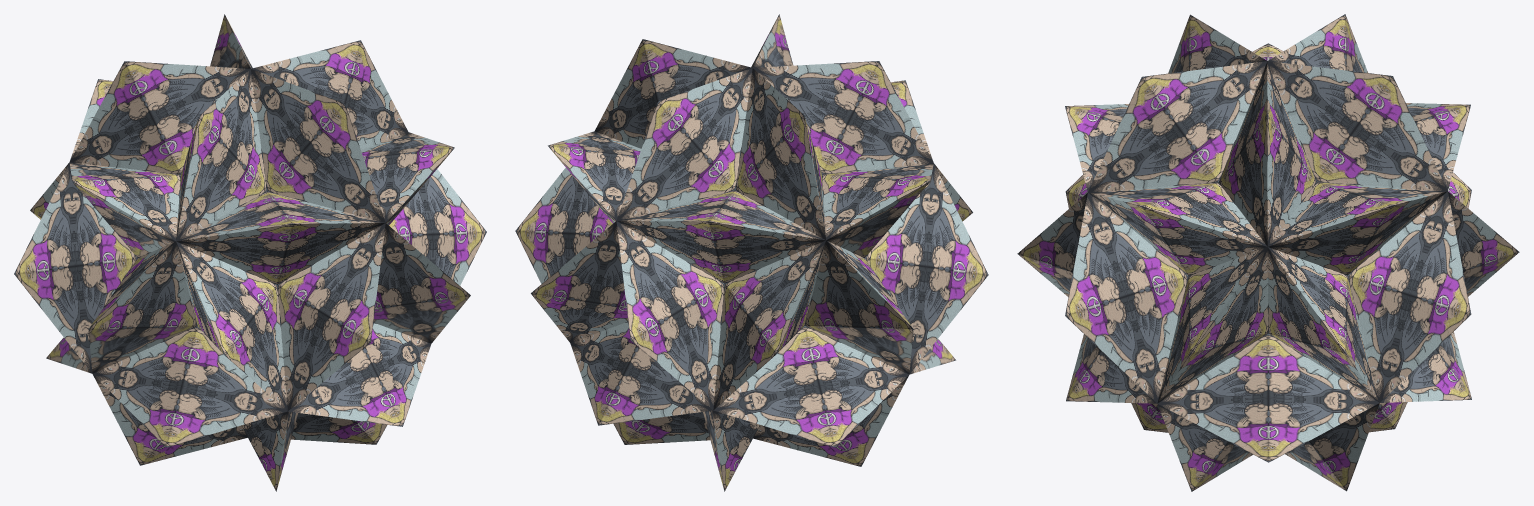
The model's file is Mobius120a25.obj.
The picture shows the model from 3 angles, left to right: view 1: azimuth 30°, elevation 25°; view 2: azimuth 150°, elevation 25°; view 3: azimuth 270°, elevation 25°; orthographic projection. The views are drawn at different scales.
Size of the model in its own units: 3.62 by 3.25 by 3.8.
Materials: 1 (1 with a texture image).
